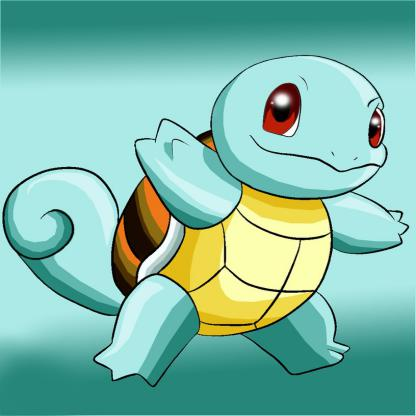Squirtle: (1, 14, 416, 393)
